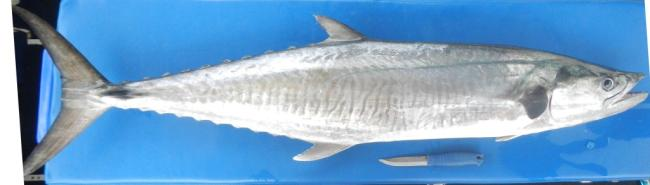fish: (12, 4, 648, 180)
